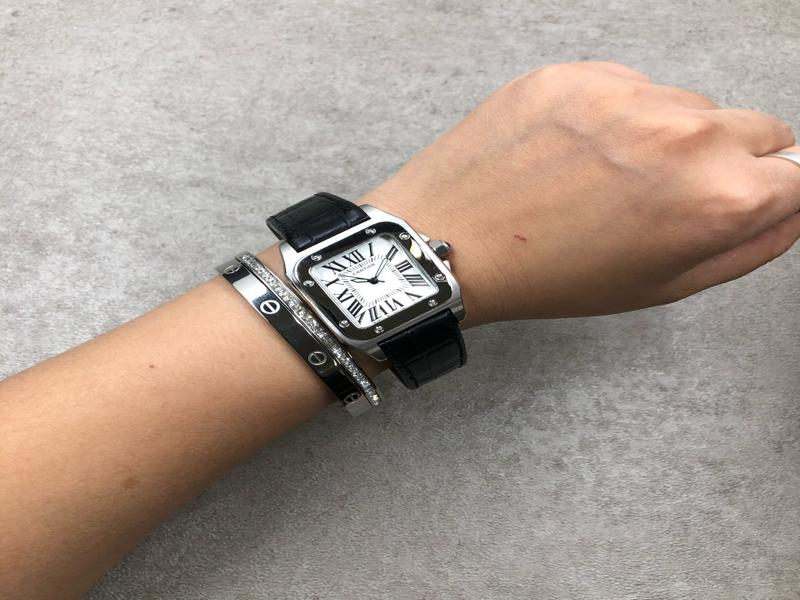watch: (264, 191, 469, 392)
